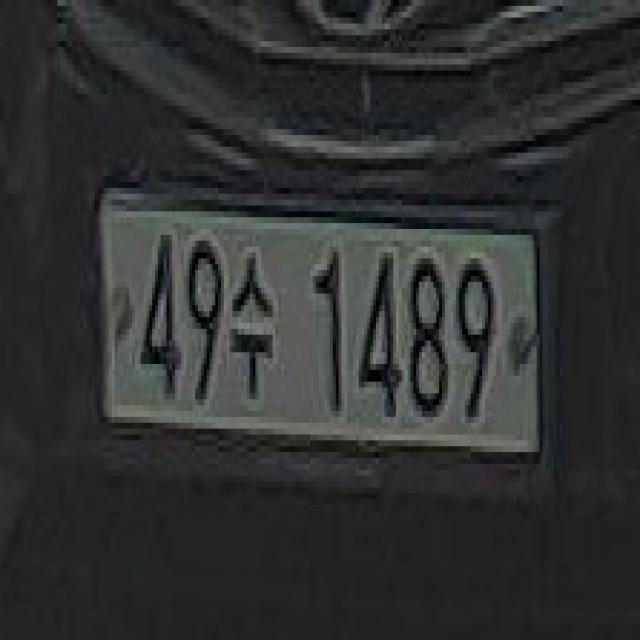1: (305, 235, 353, 436)
4: (130, 222, 188, 416), (354, 242, 406, 432)
8: (404, 250, 452, 430)
9: (182, 225, 226, 416), (451, 252, 498, 428)
license_plate: (86, 168, 552, 500)
su: (229, 246, 279, 408)
